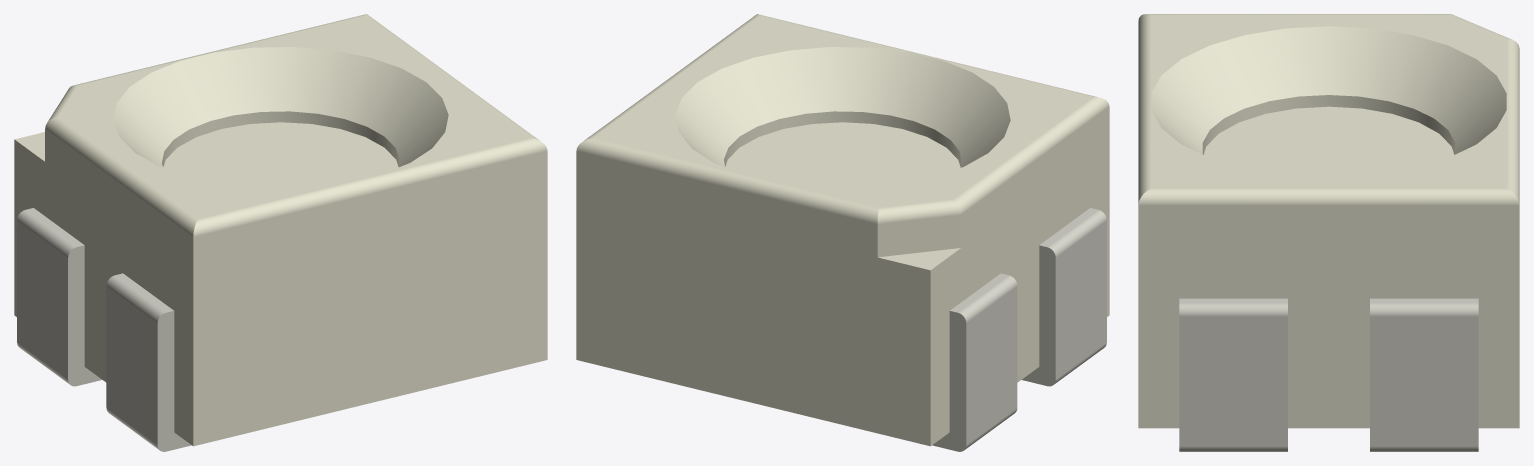
Rendered from LED_RGB_Wuerth-PLCC4_3.2x2.8mm_150141M173100.glb.
The picture shows the model from 3 angles, left to right: view 1: azimuth 30°, elevation 25°; view 2: azimuth 150°, elevation 25°; view 3: azimuth 270°, elevation 25°; orthographic projection. The views are drawn at different scales.
Parts seen in each view (by area): view 1: =>[0:1:1:3]; view 2: =>[0:1:1:3]; view 3: =>[0:1:1:3].
Part boxes in pixels (x1,y1,x2,y2): =>[0:1:1:3]: (14,14,547,451); =>[0:1:1:3]: (576,14,1109,451); =>[0:1:1:3]: (1138,14,1519,451).
Size of the model in its own units: 0.0035 by 0.00205 by 0.0028.
